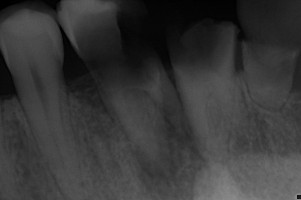Furcation Involvement: (129, 115, 207, 200)
